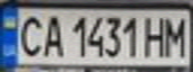1: (121, 12, 142, 59), (66, 12, 87, 57)
3: (103, 14, 124, 58)
4: (84, 12, 106, 59)
A: (39, 11, 66, 58)
C: (12, 12, 48, 59)
H: (142, 12, 172, 59)
M: (163, 12, 190, 59)
